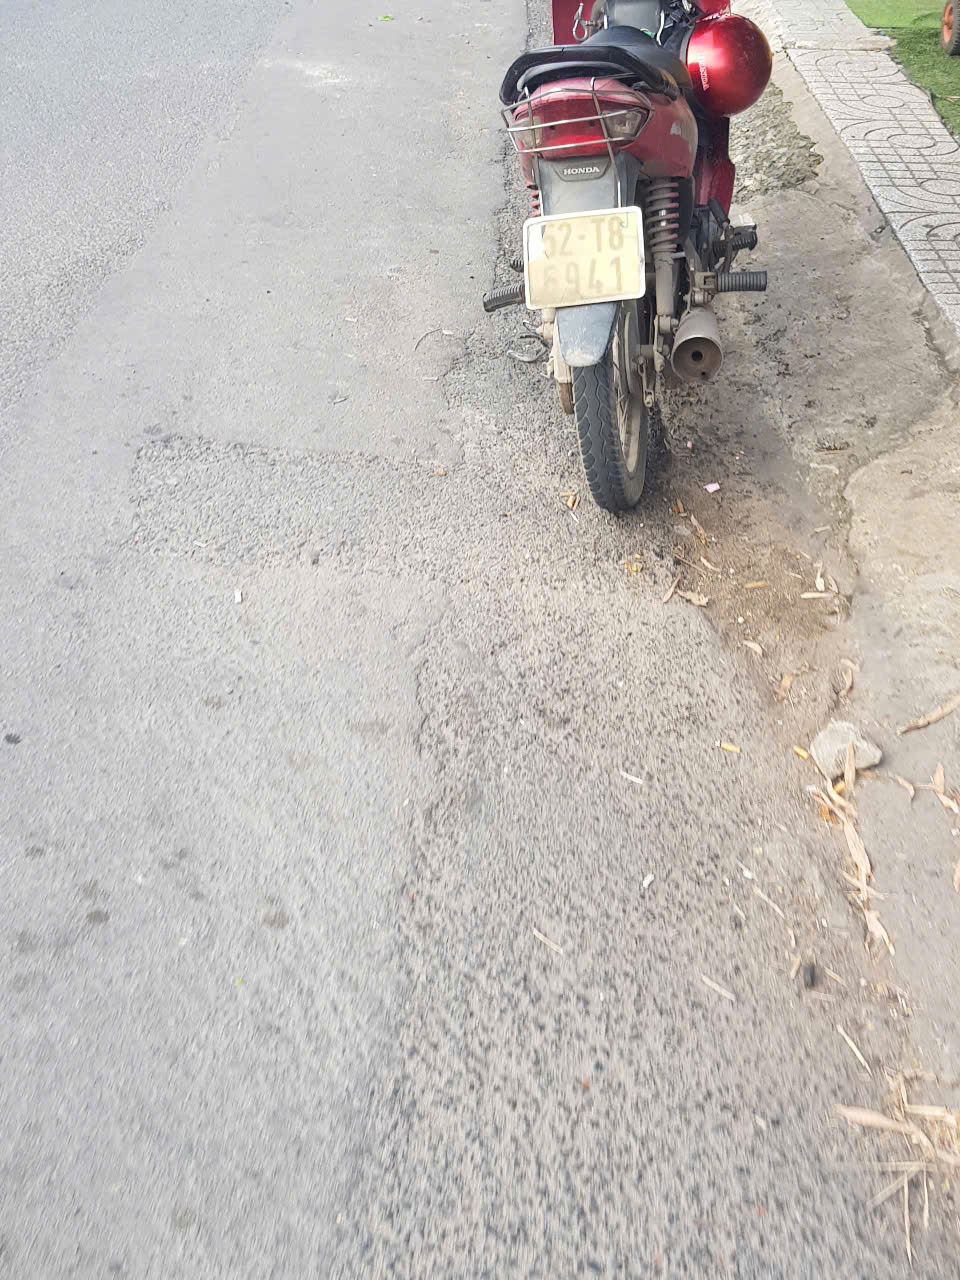bien_so: (522, 207, 645, 308)
